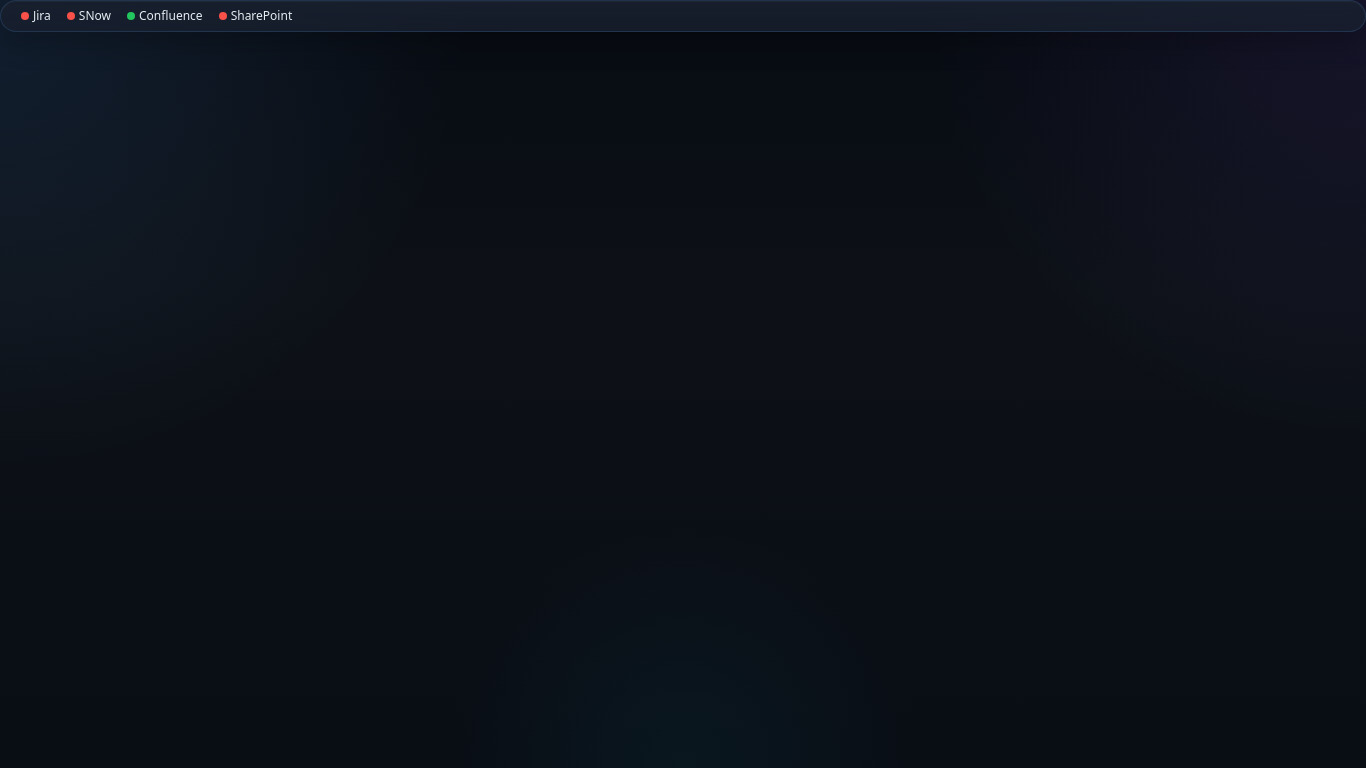
Test: ConnectionBar › shows Open Confluence button when Confluence is ready and a base URL is configured
Click the button "Confluence" at (165, 16), box x1=123 y1=5 x2=207 y2=27
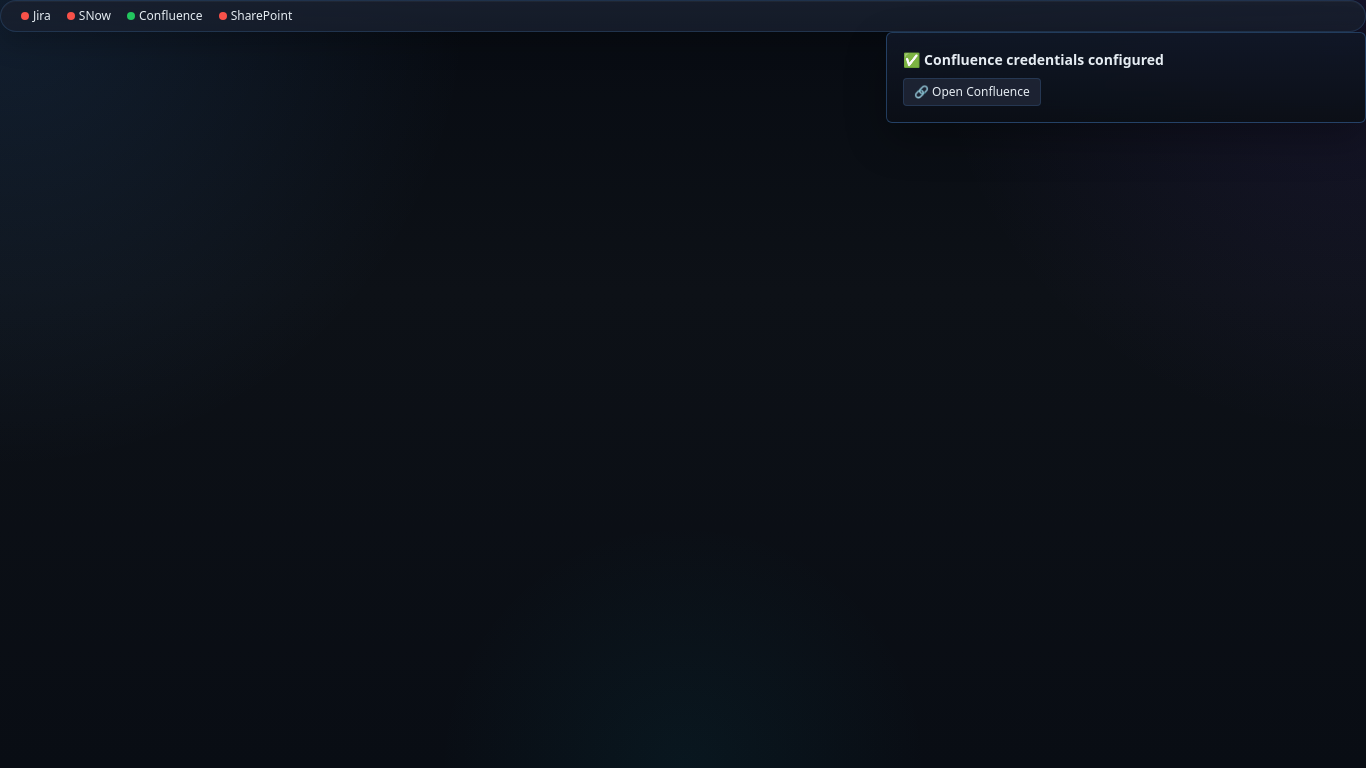
Expected: the button "🔗 Open Confluence" is shown, x1=903 y1=78 x2=1041 y2=106
